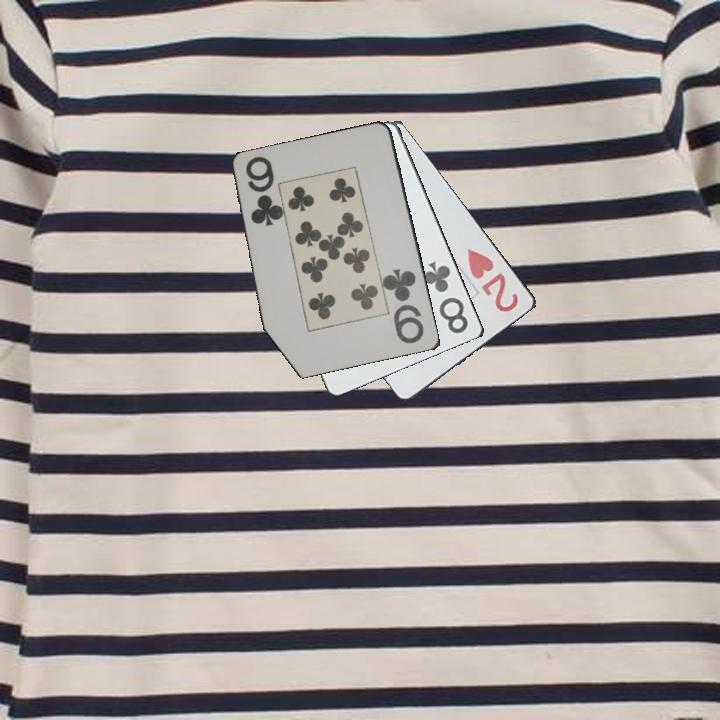2h: (464, 245, 522, 315)
8c: (420, 257, 471, 337)
9c: (382, 265, 427, 347), (242, 153, 282, 230)
